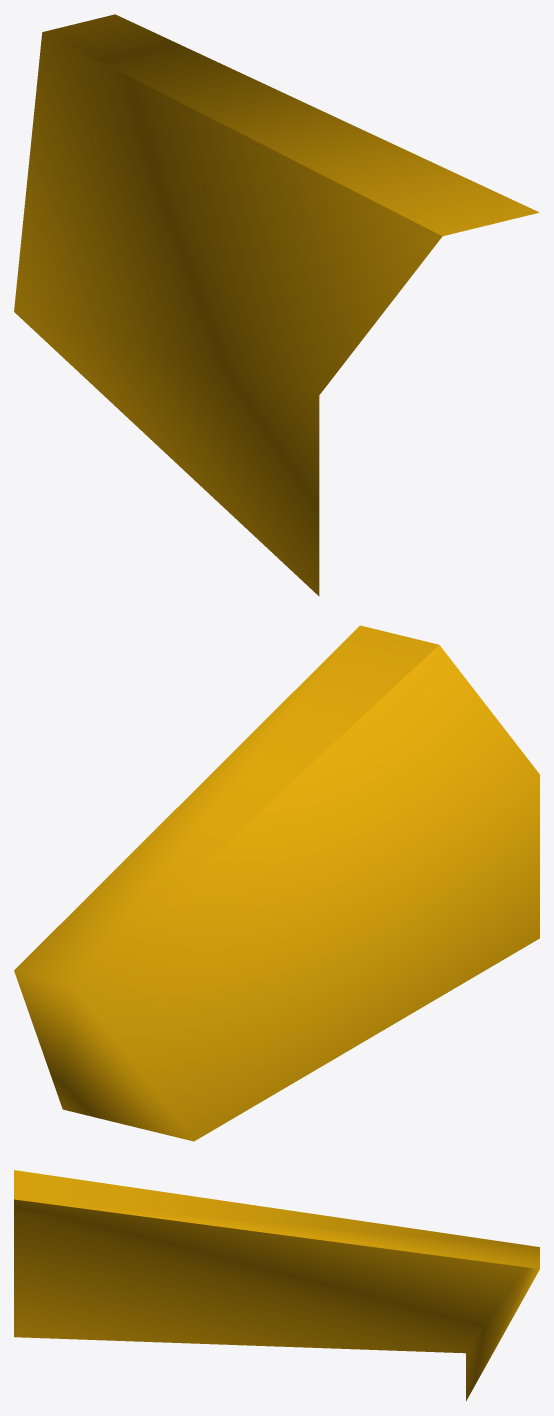
Rendered from Nose.fbx.
3 renders of one model, top to bottom at view 1: azimuth 30°, elevation 25°; view 2: azimuth 150°, elevation 25°; view 3: azimuth 270°, elevation 25°, orthographic. The views are drawn at different scales.
Parts seen in each view (by area): view 1: Nose; view 2: Nose; view 3: Nose.
Boxes of the visible parts, x1,y1,x2,y2 form: Nose: [14, 14, 539, 596]; Nose: [14, 625, 539, 1141]; Nose: [14, 1170, 539, 1400].
Size of the model in its own units: 119 by 170 by 396.
